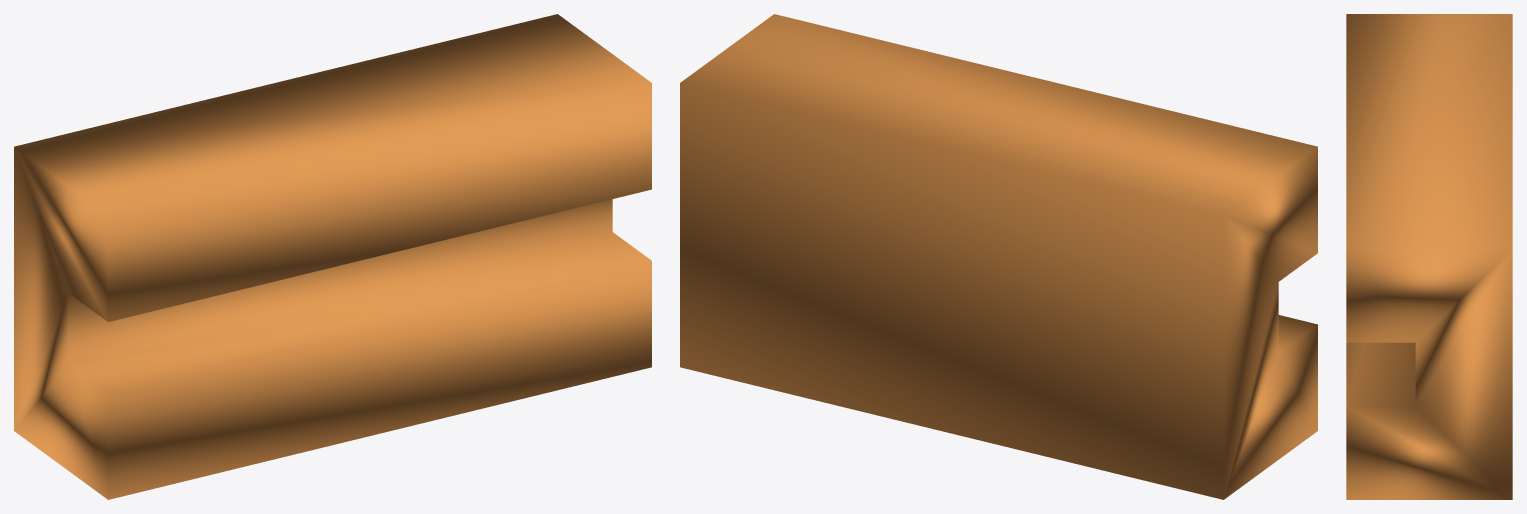
File: expected.gltf
3 views of the same model, side by side, from view 1: azimuth 30°, elevation 25°; view 2: azimuth 150°, elevation 25°; view 3: azimuth 270°, elevation 25° (orthographic). The views are drawn at different scales.
Bounding box in the file's own units: 40 × 20 × 12.
